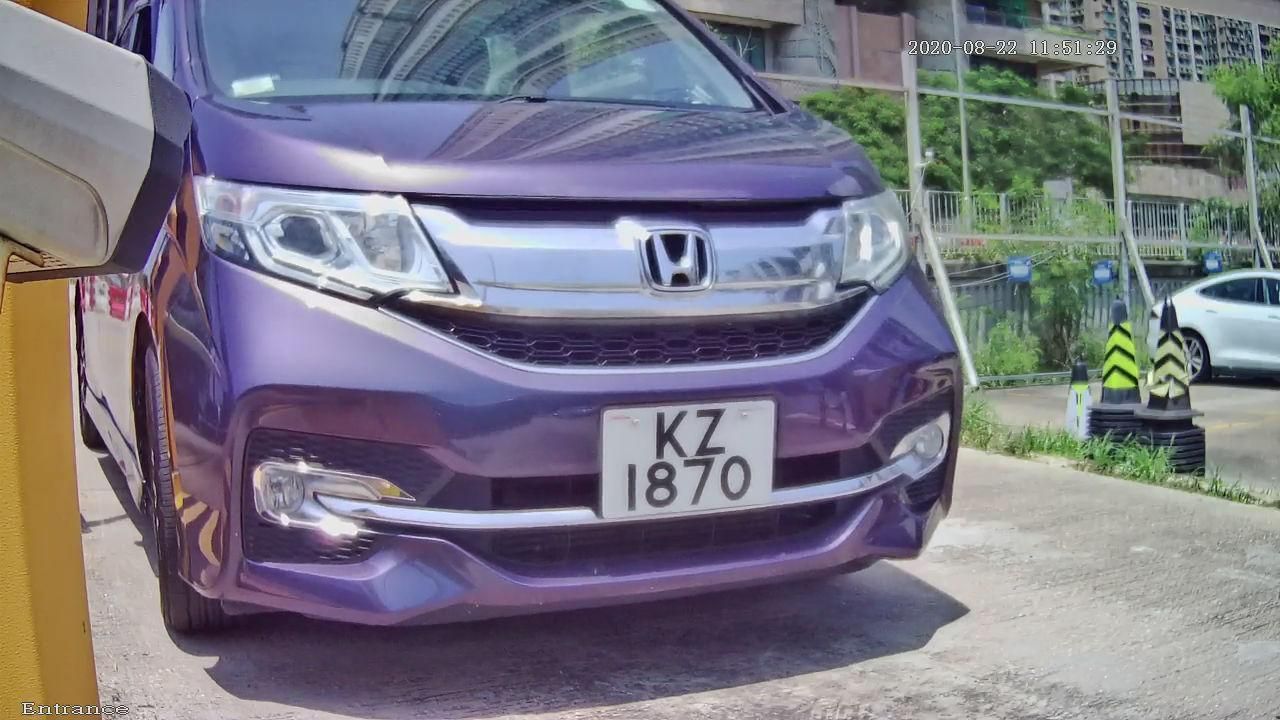License Plate: (583, 386, 789, 531)
